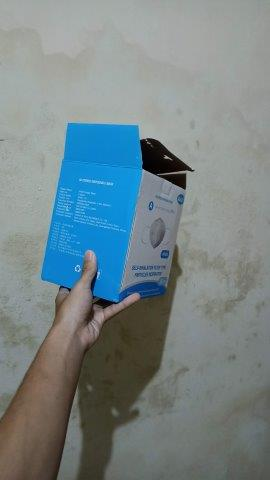kardus: (43, 124, 187, 297)
